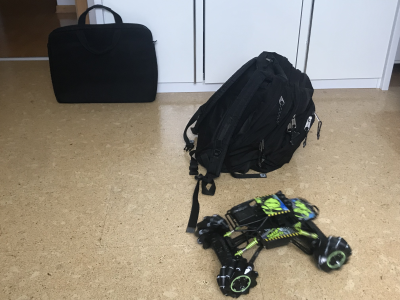remote control car: (192, 189, 354, 300)
